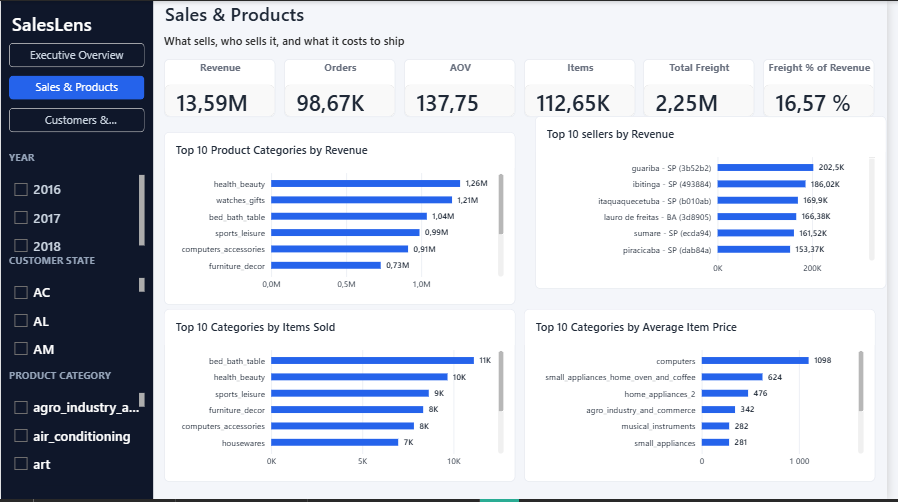

The dashboard page shown, as its layout file describes it:
{"tool":"powerbi","page":{"name":"Sales & Products","canvas":[1280,720],"ordinal":1},"visuals":[{"type":"cardVisual","title":"Freight % of Revenue","fields":{"Data":["public fact_sales.Freight % of Revenue"]},"box":[1475.4,161.6,193.5,172.2],"z":1000},{"type":"barChart","title":"Top 10 Categories by Items Sold","fields":{"Category":["public dim_product.product_category_name_english"],"Y":["public fact_sales.Total Items Sold"]},"box":[236,446,508,250],"z":2000},{"type":"barChart","title":"Top 10 Categories by Average Item Price","fields":{"Category":["public dim_product.product_category_name_english"],"Y":["public fact_reviews.Average Item Price"]},"box":[756,446,508,250],"z":3000},{"type":"shape","box":[0,0,220,720],"z":4000},{"type":"slicer","title":"YEAR","fields":{"Values":["public dim_date.year"]},"box":[12,215,196,140],"z":5000},{"type":"slicer","title":"CUSTOMER STATE","fields":{"Values":["public dim_customer.customer_state"]},"box":[12,375,196,150],"z":6000},{"type":"slicer","title":"PRODUCT CATEGORY","fields":{"Values":["public dim_product.product_category_name_english"]},"box":[12,545,196,150],"z":7000},{"type":"textbox","box":[16,14,204,46],"z":8000},{"type":"pageNavigator","box":[12,60,196,130],"z":9000},{"type":"textbox","box":[236.7,0,321.7,46.7],"z":10000},{"type":"cardVisual","title":"Revenue ","fields":{"Data":["public fact_sales.Total Revenue"]},"box":[236,84,161,84],"z":11000},{"type":"cardVisual","title":"Orders","fields":{"Data":["public fact_sales.Total Orders"]},"box":[409.2,84,161,84],"z":12000},{"type":"cardVisual","title":"Items","fields":{"Data":["public fact_sales.Total Items Sold"]},"box":[755.6,84,161,84],"z":13000},{"type":"cardVisual","title":"AOV","fields":{"Data":["public fact_sales.Average Order Value"]},"box":[582.4,84,161,84],"z":14000},{"type":"cardVisual","title":"Total Freight","fields":{"Data":["public fact_sales.Total Freight"]},"box":[928.8,84,161,84],"z":15000},{"type":"barChart","title":"Top 10 Product Categories by Revenue","fields":{"Category":["public dim_product.product_category_name_english"],"Y":["public fact_sales.Total Revenue"]},"box":[236,190,508,250],"z":16000},{"type":"barChart","title":"Top 10 sellers by Revenue","fields":{"Category":["public dim_seller.Seller Display"],"Y":["public fact_sales.Total Revenue"]},"box":[756,184,508,250],"z":17000},{"type":"cardVisual","title":"Freight % of Revenue","fields":{"Data":["public fact_sales.Freight % of Revenue"]},"box":[1102,84,161,84],"z":18000},{"type":"textbox","box":[236,46,600,22],"z":19000}]}

Visuals, with their boxes on the page's 1280x720 design canvas (x1, y1, x2, y2). These are canvas units, not pixel positions in the 898x502 screenshot, which may show the page scaled, cropped or inside an application window:
"Freight % of Revenue" cardVisual: <box>1475,162,1669,334</box>
"Top 10 Categories by Items Sold" barChart: <box>236,446,744,696</box>
"Top 10 Categories by Average Item Price" barChart: <box>756,446,1264,696</box>
shape: <box>0,0,220,720</box>
"YEAR" slicer: <box>12,215,208,355</box>
"CUSTOMER STATE" slicer: <box>12,375,208,525</box>
"PRODUCT CATEGORY" slicer: <box>12,545,208,695</box>
textbox: <box>16,14,220,60</box>
pageNavigator: <box>12,60,208,190</box>
textbox: <box>237,0,558,47</box>
"Revenue " cardVisual: <box>236,84,397,168</box>
"Orders" cardVisual: <box>409,84,570,168</box>
"Items" cardVisual: <box>756,84,917,168</box>
"AOV" cardVisual: <box>582,84,743,168</box>
"Total Freight" cardVisual: <box>929,84,1090,168</box>
"Top 10 Product Categories by Revenue" barChart: <box>236,190,744,440</box>
"Top 10 sellers by Revenue" barChart: <box>756,184,1264,434</box>
"Freight % of Revenue" cardVisual: <box>1102,84,1263,168</box>
textbox: <box>236,46,836,68</box>
